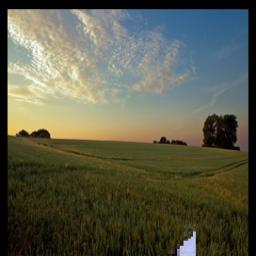Crow: (126, 58, 196, 256)
